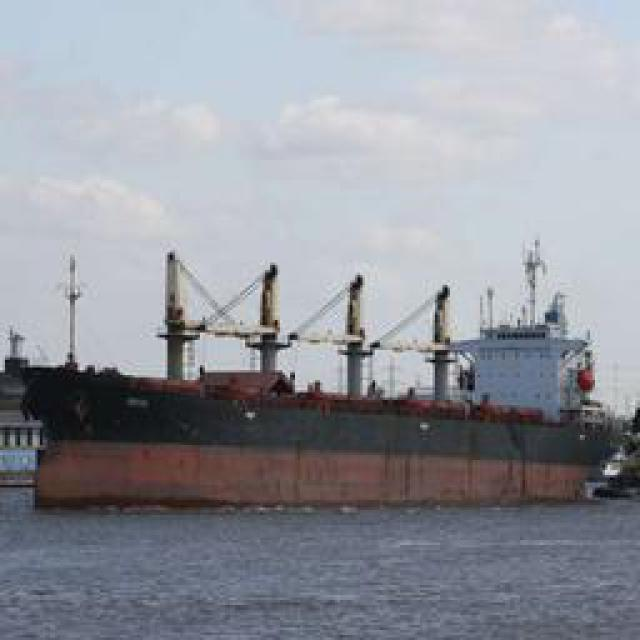Ship: (17, 241, 620, 484)
